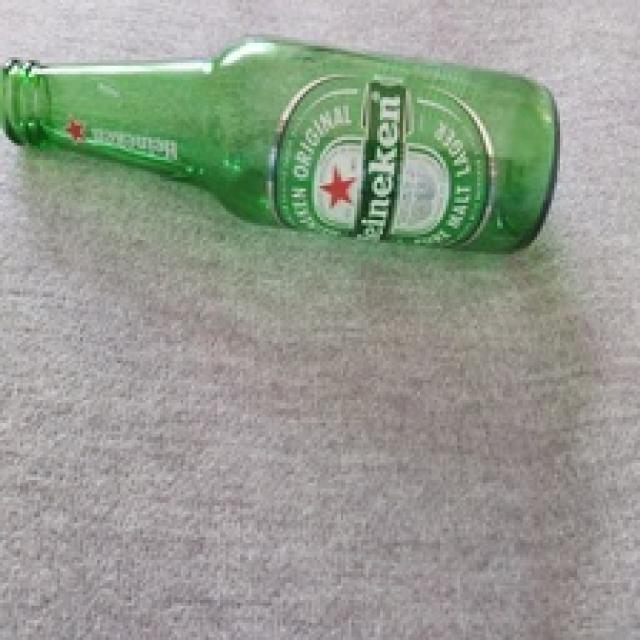Glass: (0, 34, 562, 258)
